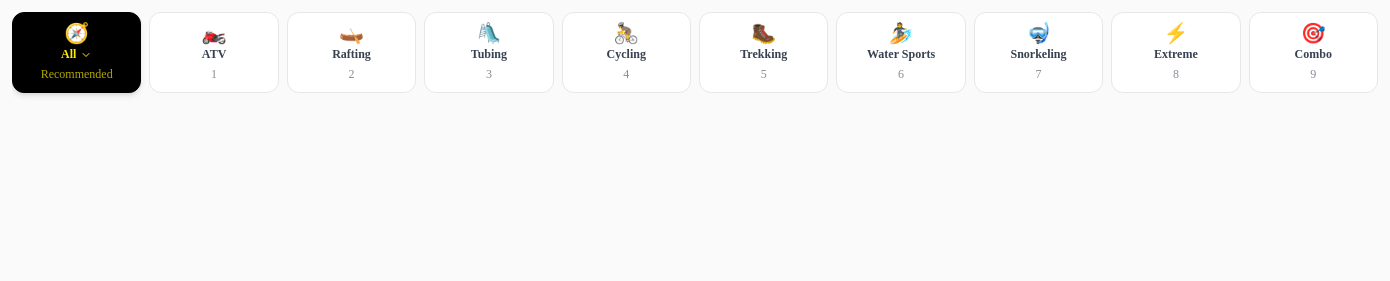
Scenario: CategoryTiles › opens the sort menu from the All tile
Click the button "🧭 All Recommended": click(77, 52) [12,12,141,93]
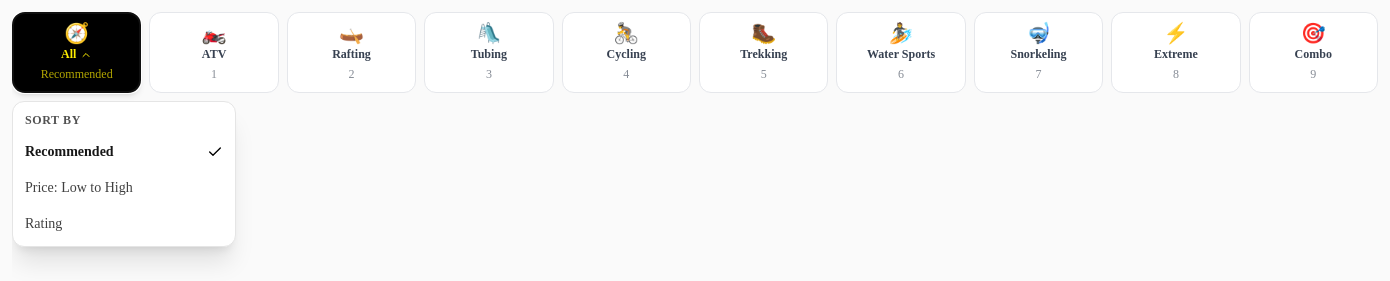
expect the menu is shown: met, box [12,101,236,247]
